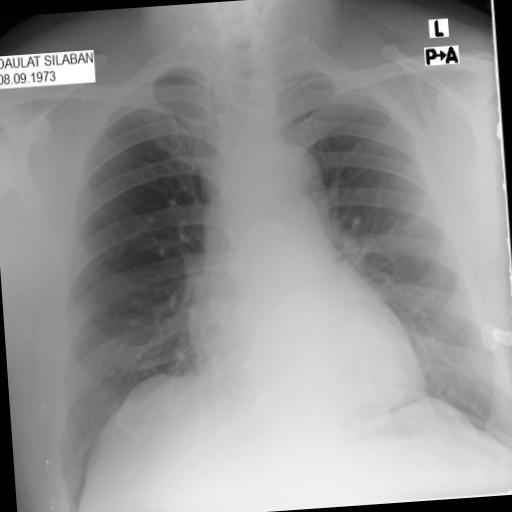kardiomegali: (23, 17, 512, 512)
